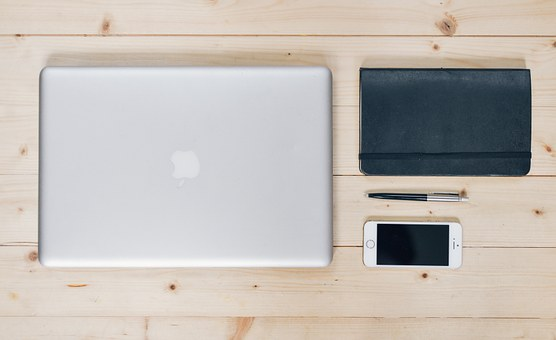mobile: (356, 217, 479, 279)
